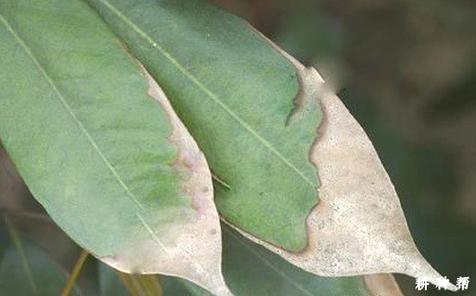Frost_Blight: (252, 36, 462, 288), (99, 53, 235, 292)
